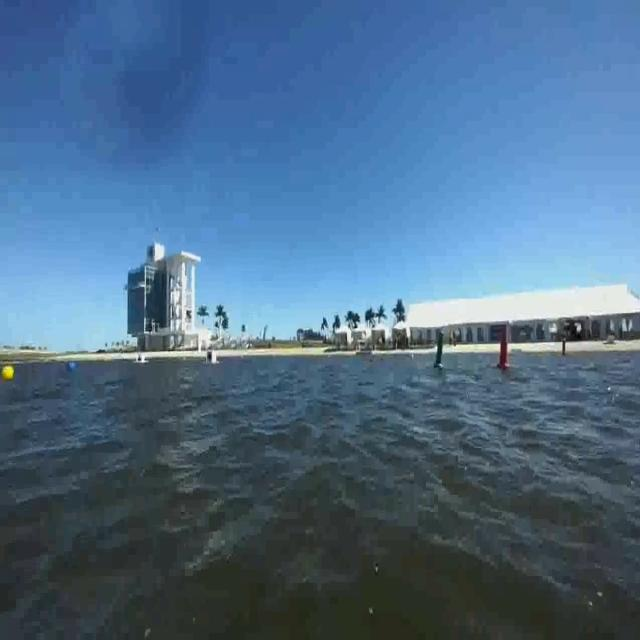green-column-buoy: (432, 330, 447, 370)
red-column-buoy: (496, 322, 511, 370)
yellow-buoy: (2, 362, 15, 382)
